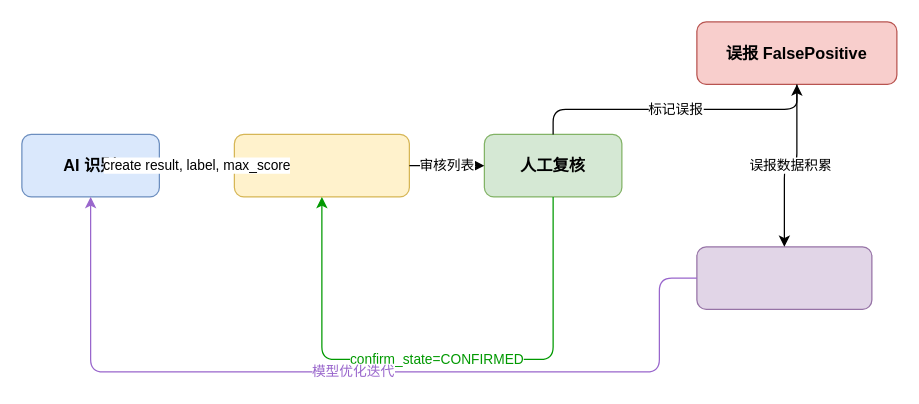
Some shapes in this 919 by 404 pixel diagram are drawn without their labels. The shapes that lost their labels are listed below. From the top down, each one's centre as x and y in pixels, then its label:
At (321,165): "MediaFileDefect".
At (784,277): "误报模型训练".
